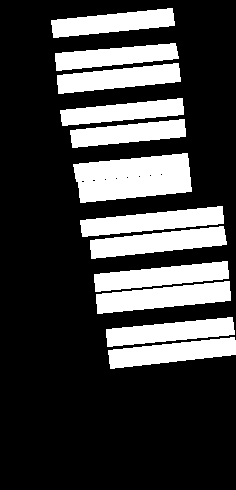parkingspot: (90, 226, 226, 258), (80, 206, 223, 236), (96, 281, 230, 313), (94, 261, 228, 291), (108, 337, 236, 368), (106, 317, 234, 346), (57, 63, 180, 93), (51, 8, 174, 37), (78, 172, 191, 202), (55, 43, 178, 70), (60, 98, 183, 125), (73, 153, 189, 181), (70, 119, 185, 147)
